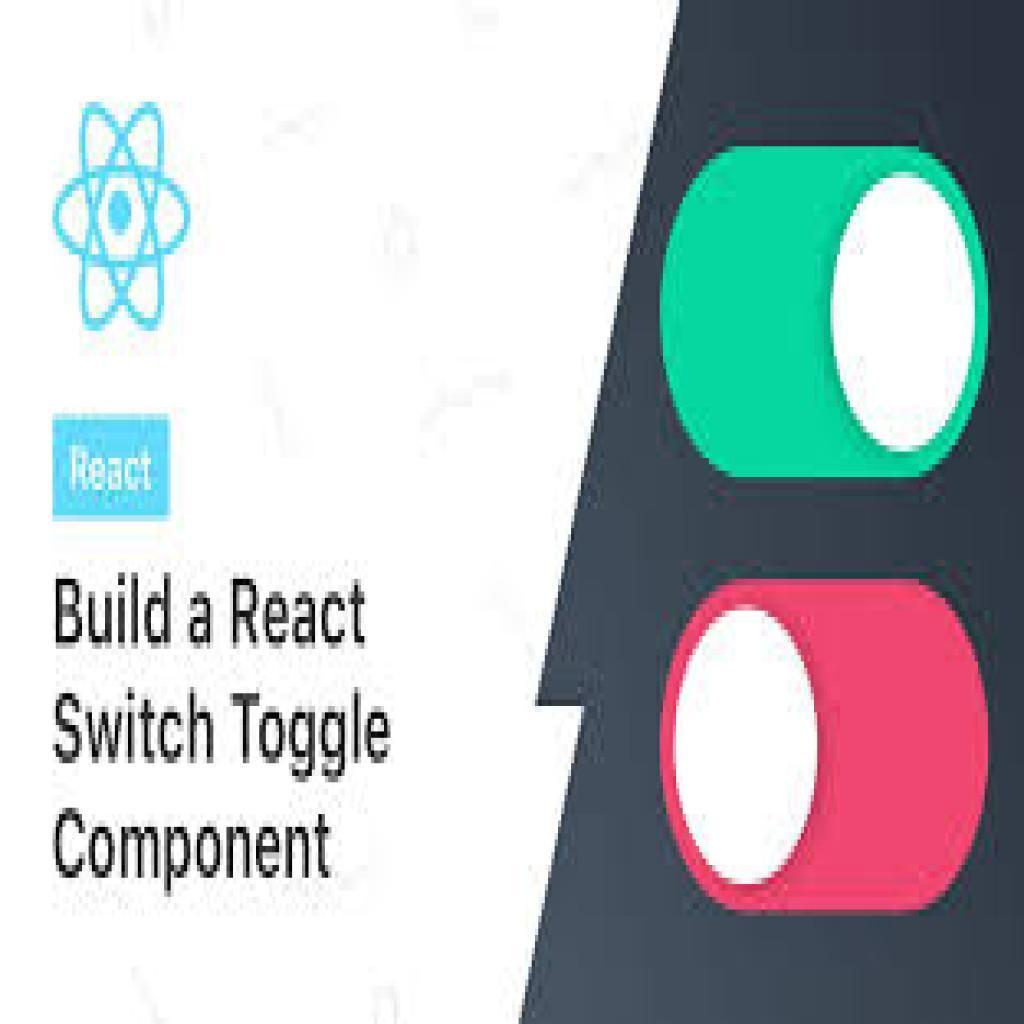switch: (658, 578, 994, 926), (660, 137, 992, 484)
